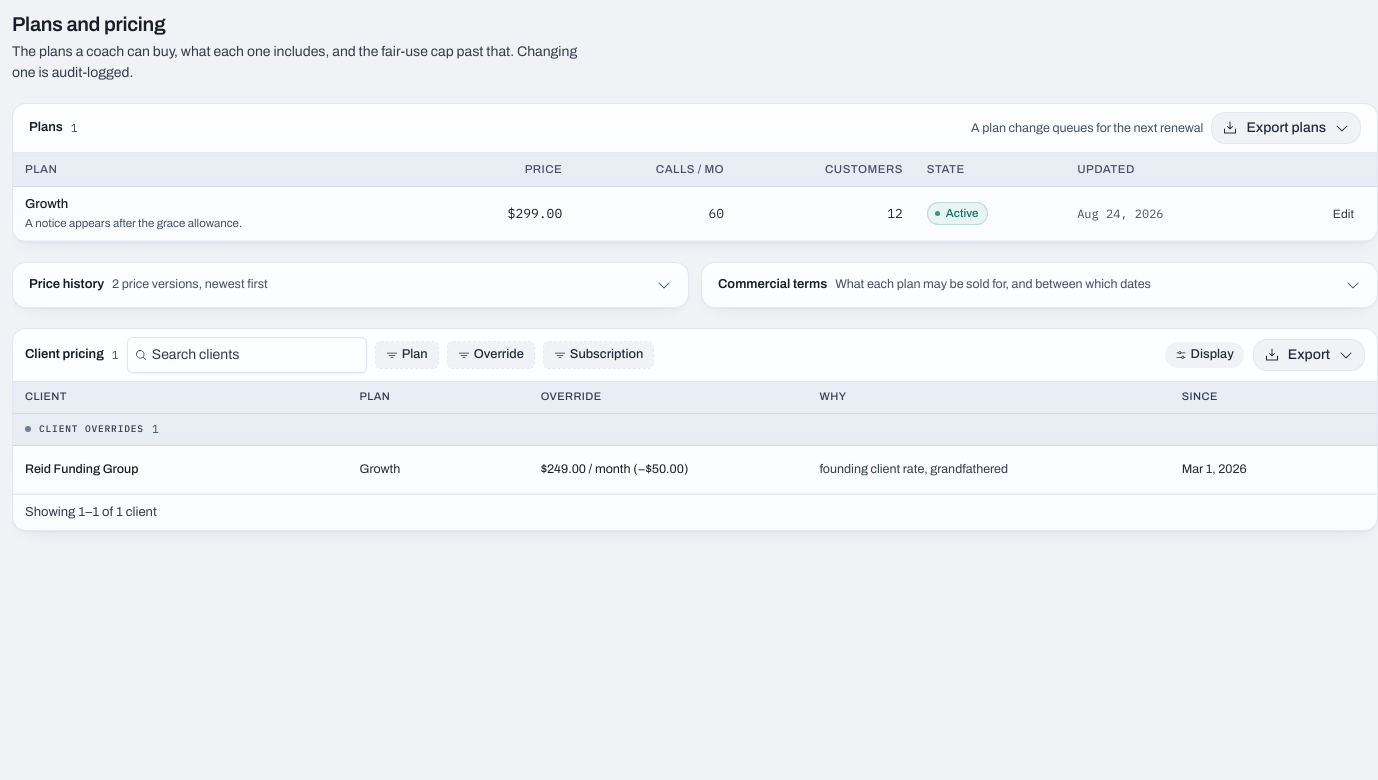
Test: AdminMoneyTiers › draws pricing history from the append-only versions, changes derived against the same plan
// The record opens on purpose now, so the test opens it before reading it.
Click the text "Price history" at {"x": 66, "y": 285}, box [29, 275, 104, 294]
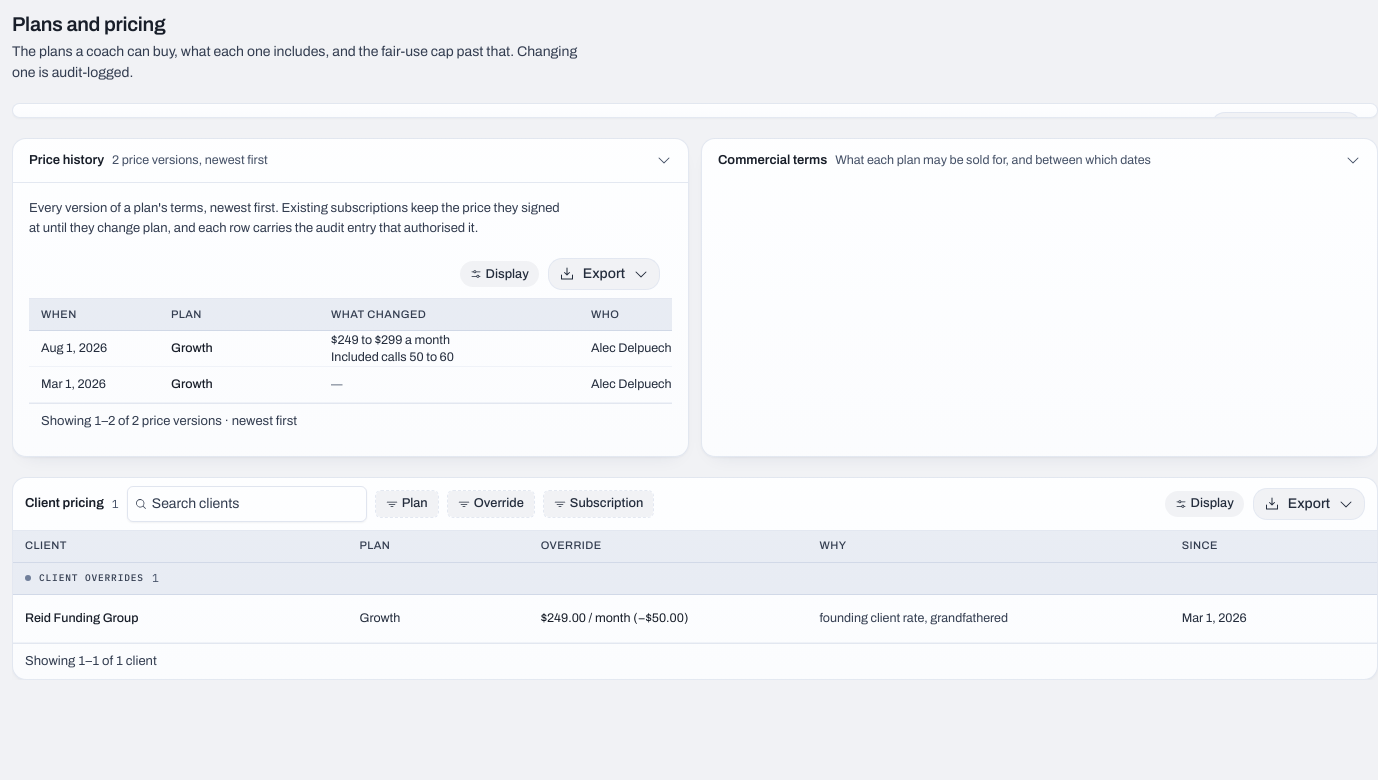
Expected: the text "$249 to $299 a month" is shown, [331, 332, 454, 348]
Expected: the text "Included calls 50 to 60" is shown, [331, 348, 454, 365]
Expected: the text "Alec Delpuech" is shown 2 times, [591, 341, 672, 355]; [591, 377, 672, 391]
